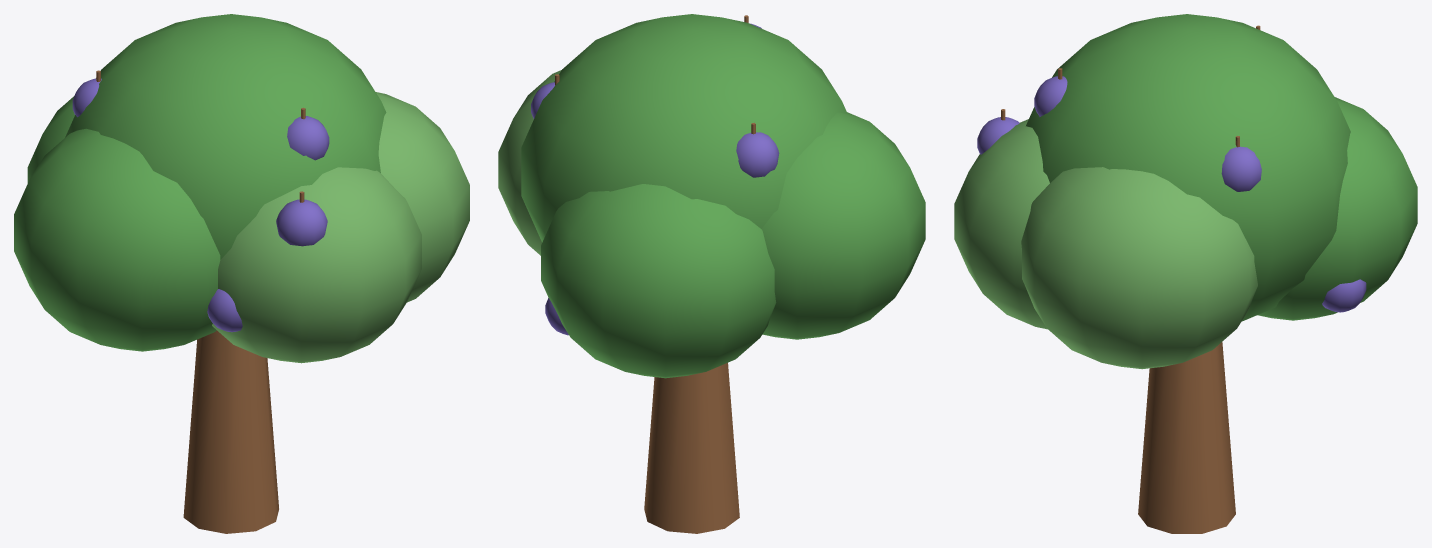
The model's file is prop_fruit_water_ph.glb.
3 renders of one model, left to right at view 1: azimuth 30°, elevation 25°; view 2: azimuth 150°, elevation 25°; view 3: azimuth 270°, elevation 25°, orthographic.
Parts seen in each view (by area): view 1: prop_fruit_water; view 2: prop_fruit_water; view 3: prop_fruit_water.
Part boxes in pixels (x1=…): prop_fruit_water: x1=14, y1=14, x2=469, y2=533; prop_fruit_water: x1=498, y1=14, x2=925, y2=533; prop_fruit_water: x1=954, y1=14, x2=1417, y2=533.
Bounding box in the file's own units: 2.31 × 2.61 × 2.27.
